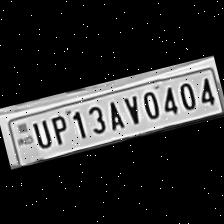0: (136, 86, 160, 122), (172, 78, 197, 112)
1: (65, 106, 89, 142)
3: (82, 100, 108, 137)
4: (192, 72, 218, 108), (154, 82, 179, 117)
A: (100, 94, 127, 132)
P: (46, 110, 72, 147)
U: (28, 116, 52, 150)
V: (118, 90, 144, 127)
